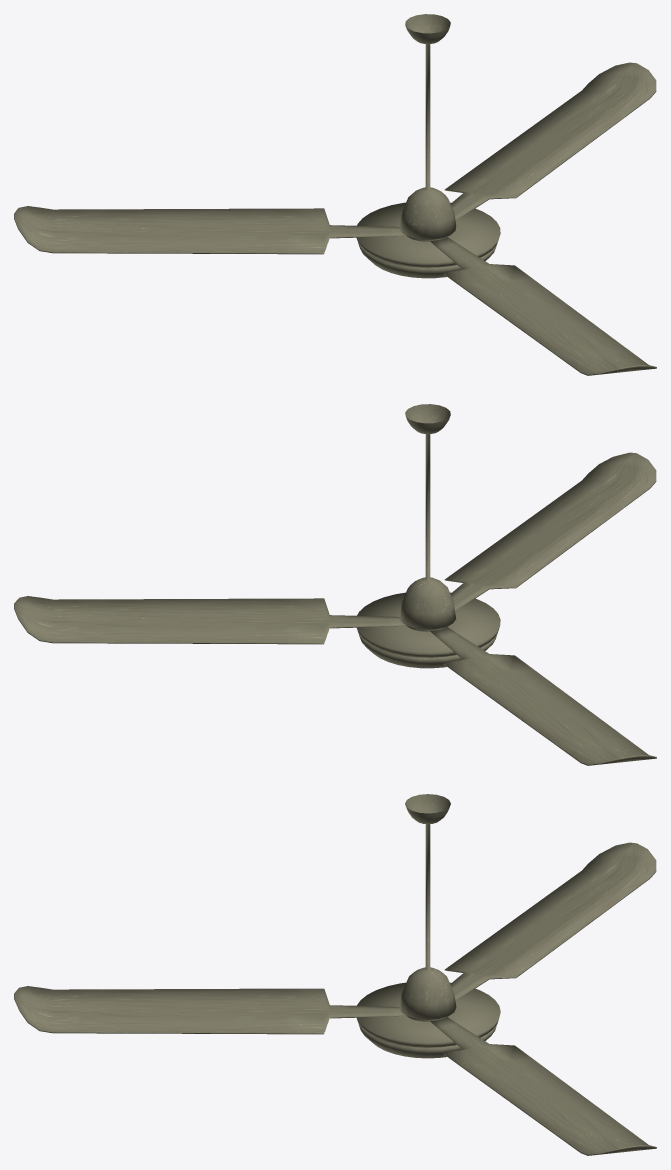
The model's file is Sketchfab_2023_02_21_11_08_44.fbx.
3 views of the same model, one above another, from view 1: azimuth 30°, elevation 25°; view 2: azimuth 150°, elevation 25°; view 3: azimuth 270°, elevation 25° (orthographic).
Parts seen in each view (by area): view 1: Cylinder.001, Cone, Cylinder; view 2: Cylinder.001, Cone, Cylinder; view 3: Cylinder.001, Cone, Cylinder.
Boxes of the visible parts, bbox=[...] form: Cylinder.001: bbox=[14, 62, 656, 375]; Cone: bbox=[399, 14, 456, 239]; Cylinder: bbox=[358, 235, 497, 278]; Cylinder.001: bbox=[14, 452, 656, 765]; Cone: bbox=[399, 404, 456, 629]; Cylinder: bbox=[358, 625, 497, 668]; Cylinder.001: bbox=[14, 842, 656, 1155]; Cone: bbox=[399, 794, 456, 1019]; Cylinder: bbox=[358, 1015, 497, 1058].
Size of the model in its own units: 141 by 50.11 by 125.
Materials: 1 (1 with a texture image).
